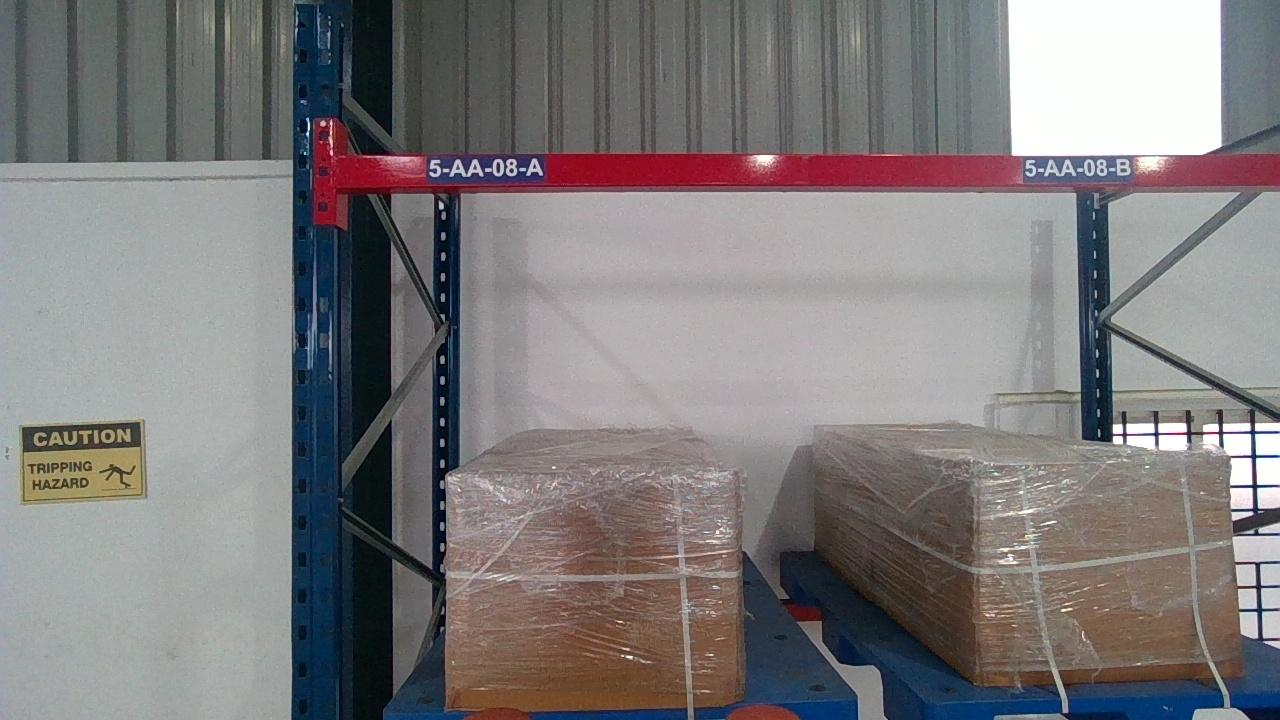h_rack: (334, 153, 1278, 188)
small_pallet: (931, 695, 1277, 719)
